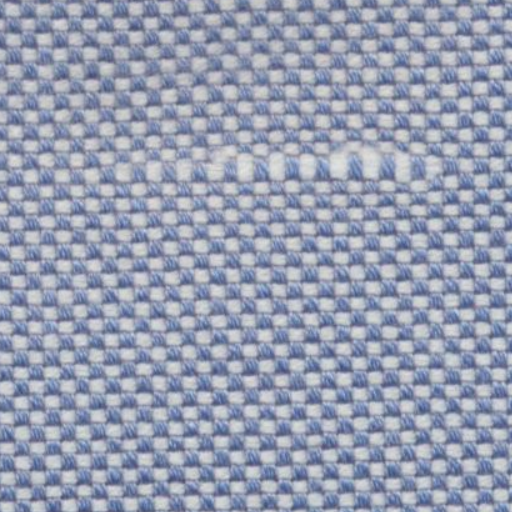DaiSha: (128, 142, 453, 194)
